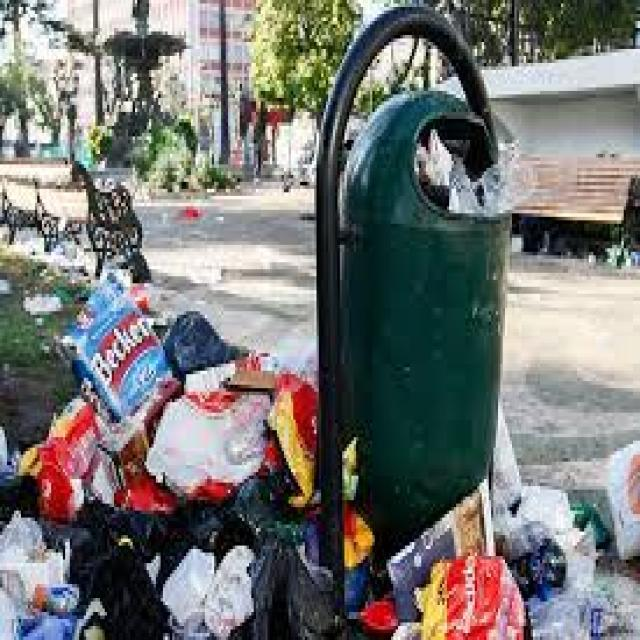garbage: (16, 279, 640, 636)
